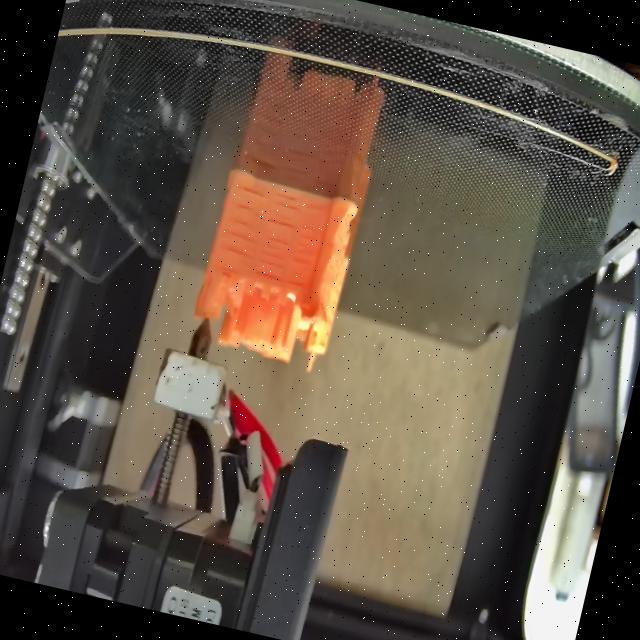cracks: (218, 184, 272, 262), (290, 198, 334, 271), (254, 233, 292, 285), (267, 194, 301, 232), (284, 275, 309, 292)
